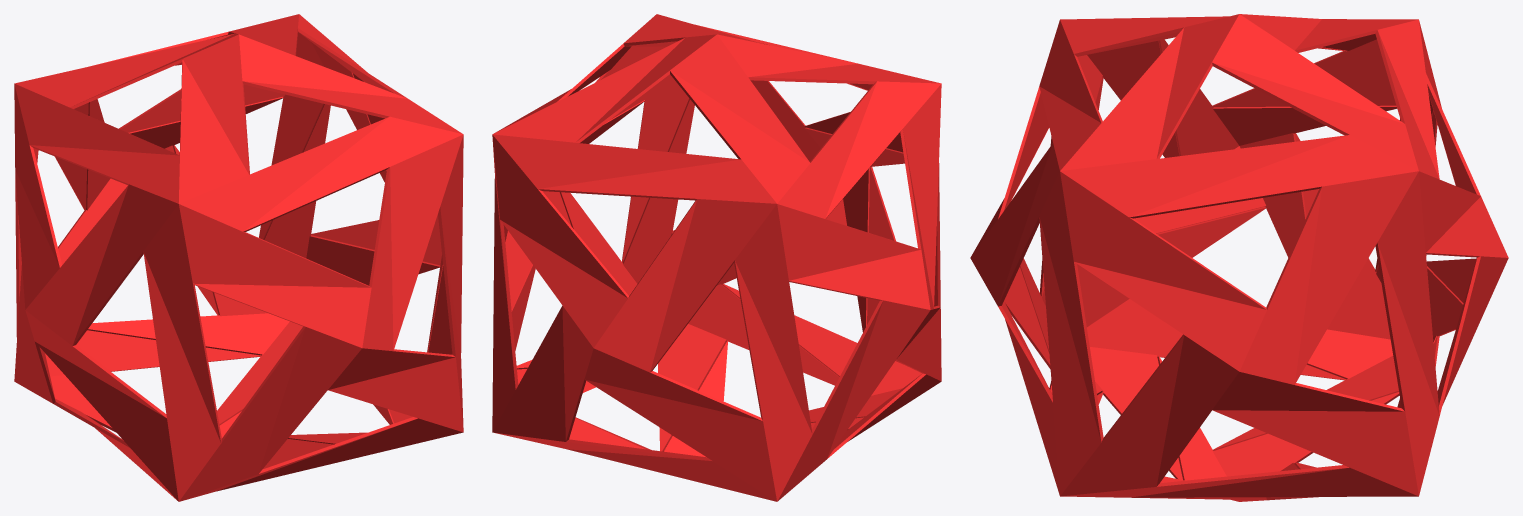
File: TetrakisHexahedron.glb
3 views of the same model, side by side, from view 1: azimuth 30°, elevation 25°; view 2: azimuth 150°, elevation 25°; view 3: azimuth 270°, elevation 25° (orthographic). The views are drawn at different scales.
Visible parts, largest first — view 1: root; view 2: root; view 3: root.
Part boxes in pixels (left/top/right/bottom): root: left=14, top=14, right=463, bottom=501; root: left=492, top=14, right=941, bottom=501; root: left=970, top=14, right=1508, bottom=501.
Bounding box in the file's own units: 7.94 × 7.94 × 7.94.
